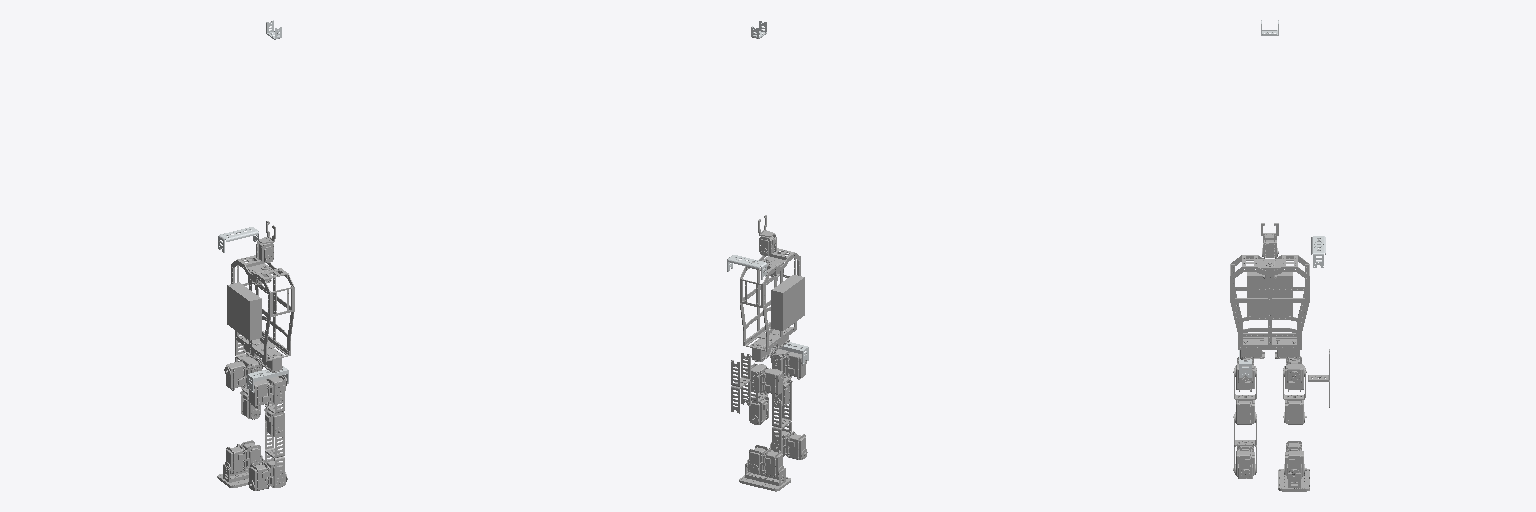
robot.urdf — biped:
<robot
  name="biped">
  <link
    name="torso">
    <inertial>
      <origin
        xyz="-0.032427 -7.3918E-11 -0.035454"
        rpy="0 0 0" />
      <mass
        value="1.5243" />
      <inertia
        ixx="0.0065088"
        ixy="1.2448E-11"
        ixz="0.00074863"
        iyy="0.0067767"
        iyz="1.2924E-11"
        izz="0.0023018" />
    </inertial>
    <visual>
      <origin
        xyz="0 0 0"
        rpy="0 0 0" />
      <geometry>
        <mesh
          filename="package://meshes/meshes_biped/torso.STL" />
      </geometry>
      <material
        name="">
        <color
          rgba="0.75294 0.75294 0.75294 1" />
      </material>
    </visual>
    <collision>
      <origin
        xyz="0 0 0"
        rpy="0 0 0" />
      <geometry>
        <mesh
          filename="package://meshes/meshes_biped/torso.STL" />
      </geometry>
    </collision>
    <contact>
      <lateral_friction value="1.0"/>
      <restitution value="0.5"/>
    </contact>
  </link>
  <link
    name="head_p">
    <inertial>
      <origin
        xyz="-5.5511E-17 5.5511E-17 -0.023536"
        rpy="0 0 0" />
      <mass
        value="0.0091975" />
      <inertia
        ixx="0"
        ixy="0"
        ixz="0"
        iyy="0"
        iyz="0"
        izz="0" />
    </inertial>
    <visual>
      <origin
        xyz="0 0 0"
        rpy="0 0 0" />
      <geometry>
        <mesh
          filename="package://meshes/meshes_biped/head_p.STL" />
      </geometry>
      <material
        name="">
        <color
          rgba="0.89804 0.91765 0.92941 1" />
      </material>
    </visual>
    <collision>
      <origin
        xyz="0 0 0"
        rpy="0 0 0" />
      <geometry>
        <mesh
          filename="package://meshes/meshes_biped/head_p.STL" />
      </geometry>
    </collision>
    <contact>
      <lateral_friction value="1.0"/>
      <restitution value="0.5"/>
    </contact>
  </link>
  <joint
    name="head_p"
    type="fixed">
    <origin
      xyz="0.0075 0 0.12157"
      rpy="6.713E-16 6.9212E-18 1.1102E-16" />
    <parent
      link="torso" />
    <child
      link="head_p" />
    <axis
      xyz="0 0 1" />
    <limit
      lower="-1.57"
      upper="1.57"
      effort="16"
      velocity="3" />
  </joint>
  <link
    name="head_t">
    <inertial>
      <origin
        xyz="0.00078184 2.0234E-05 0.016088"
        rpy="0 0 0" />
      <mass
        value="0.084099" />
      <inertia
        ixx="1.5435E-05"
        ixy="1.3296E-09"
        ixz="-2.5332E-06"
        iyy="1.5134E-05"
        iyz="5.1455E-08"
        izz="1.5241E-06" />
    </inertial>
    <visual>
      <origin
        xyz="0 0 0"
        rpy="0 0 0" />
      <geometry>
        <mesh
          filename="package://meshes/meshes_biped/head_t.STL" />
      </geometry>
      <material
        name="">
        <color
          rgba="0.75294 0.75294 0.75294 1" />
      </material>
    </visual>
    <collision>
      <origin
        xyz="0 0 0"
        rpy="0 0 0" />
      <geometry>
        <mesh
          filename="package://meshes/meshes_biped/head_t.STL" />
      </geometry>
    </collision>
    <contact>
      <lateral_friction value="1.0"/>
      <restitution value="0.5"/>
    </contact>
  </link>
  <joint
    name="j_head_t"
    type="fixed">
    <origin
      xyz="0 -0.00025 0"
      rpy="1.4381E-16 -9.993E-17 -7.2164E-16" />
    <parent
      link="head_p" />
    <child
      link="head_t" />
    <axis
      xyz="0 1 0" />
    <limit
      lower="-1.57"
      upper="1.57"
      effort="16"
      velocity="3" />
  </joint>
  <link
    name="leg_r_hip_y">
    <inertial>
      <origin
        xyz="-0.02001 -2.7756E-17 0.028495"
        rpy="0 0 0" />
      <mass
        value="0.044523" />
      <inertia
        ixx="0"
        ixy="0"
        ixz="0"
        iyy="0"
        iyz="0"
        izz="0" />
    </inertial>
    <visual>
      <origin
        xyz="0 0 0"
        rpy="0 0 0" />
      <geometry>
        <mesh
          filename="package://meshes/meshes_biped/leg_r_hip_y.STL" />
      </geometry>
      <material
        name="">
        <color
          rgba="0.89804 0.91765 0.92941 1" />
      </material>
    </visual>
    <collision>
      <origin
        xyz="0 0 0"
        rpy="0 0 0" />
      <geometry>
        <mesh
          filename="package://meshes/meshes_biped/leg_r_hip_y.STL" />
      </geometry>
    </collision>
    <contact>
      <lateral_friction value="1.0"/>
      <restitution value="0.5"/>
    </contact>
  </link>
  <joint
    name="r_hip_y"
    type="revolute">
    <origin
      xyz="0 -0.06125 -0.2124"
      rpy="-5.4531E-16 3.0739E-17 -1.6653E-16" />
    <parent
      link="torso" />
    <child
      link="leg_r_hip_y" />
    <axis
      xyz="0 0 -1" />
    <limit
      lower="-1.57"
      upper="1.57"
      effort="16"
      velocity="3" />
  </joint>
  <link
    name="leg_r_hip_r">
    <inertial>
      <origin
        xyz="-0.019939 8.1869E-05 -0.014803"
        rpy="0 0 0" />
      <mass
        value="0.32716" />
      <inertia
        ixx="7.626E-06"
        ixy="-5.5849E-07"
        ixz="-1.0679E-05"
        iyy="0.00018621"
        iyz="-1.5134E-06"
        izz="0.0001855" />
    </inertial>
    <visual>
      <origin
        xyz="0 0 0"
        rpy="0 0 0" />
      <geometry>
        <mesh
          filename="package://meshes/meshes_biped/leg_r_hip_r.STL" />
      </geometry>
      <material
        name="">
        <color
          rgba="0.75294 0.75294 0.75294 1" />
      </material>
    </visual>
    <collision>
      <origin
        xyz="0 0 0"
        rpy="0 0 0" />
      <geometry>
        <mesh
          filename="package://meshes/meshes_biped/leg_r_hip_r.STL" />
      </geometry>
    </collision>
    <contact>
      <lateral_friction value="1.0"/>
      <restitution value="0.5"/>
    </contact>
  </link>
  <joint
    name="r_hip_r"
    type="revolute">
    <origin
      xyz="0 0 0"
      rpy="-3.9136E-16 4.0824E-19 5.5511E-17" />
    <parent
      link="leg_r_hip_y" />
    <child
      link="leg_r_hip_r" />
    <axis
      xyz="1 0 0" />
    <limit
      lower="-1.57"
      upper="1.57"
      effort="16"
      velocity="3" />
  </joint>
  <link
    name="leg_r_hip_p">
    <inertial>
      <origin
        xyz="-4.7361E-05 0.00014667 -0.10143"
        rpy="0 0 0" />
      <mass
        value="0.18783" />
      <inertia
        ixx="9.8966E-05"
        ixy="-1.5606E-09"
        ixz="2.1853E-07"
        iyy="9.6525E-05"
        iyz="1.7817E-06"
        izz="2.459E-06" />
    </inertial>
    <visual>
      <origin
        xyz="0 0 0"
        rpy="0 0 0" />
      <geometry>
        <mesh
          filename="package://meshes/meshes_biped/leg_r_hip_p.STL" />
      </geometry>
      <material
        name="">
        <color
          rgba="0.75294 0.75294 0.75294 1" />
      </material>
    </visual>
    <collision>
      <origin
        xyz="0 0 0"
        rpy="0 0 0" />
      <geometry>
        <mesh
          filename="package://meshes/meshes_biped/leg_r_hip_p.STL" />
      </geometry>
    </collision>
    <contact>
      <lateral_friction value="1.0"/>
      <restitution value="0.5"/>
    </contact>
  </link>
  <joint
    name="r_hip_p"
    type="revolute">
    <origin
      xyz="0 0 0"
      rpy="1.4362E-16 7.3309E-16 -1.1102E-16" />
    <parent
      link="leg_r_hip_r" />
    <child
      link="leg_r_hip_p" />
    <axis
      xyz="0 -1 0" />
    <limit
      lower="-1.57"
      upper="1.57"
      effort="16"
      velocity="3" />
  </joint>
  <link
    name="leg_r_knee">
    <inertial>
      <origin
        xyz="6.1062E-16 6.9389E-17 -0.072"
        rpy="0 0 0" />
      <mass
        value="0.047124" />
      <inertia
        ixx="3.4724E-05"
        ixy="1.6941E-21"
        ixz="6.3842E-20"
        iyy="3.4724E-05"
        iyz="-1.1327E-08"
        izz="3.6947E-12" />
    </inertial>
    <visual>
      <origin
        xyz="0 0 0"
        rpy="0 0 0" />
      <geometry>
        <mesh
          filename="package://meshes/meshes_biped/leg_r_knee.STL" />
      </geometry>
      <material
        name="">
        <color
          rgba="0.75294 0.75294 0.75294 1" />
      </material>
    </visual>
    <collision>
      <origin
        xyz="0 0 0"
        rpy="0 0 0" />
      <geometry>
        <mesh
          filename="package://meshes/meshes_biped/leg_r_knee.STL" />
      </geometry>
    </collision>
    <contact>
      <lateral_friction value="1.0"/>
      <restitution value="0.5"/>
    </contact>
  </link>
  <joint
    name="r_knee"
    type="revolute">
    <origin
      xyz="0 0 -0.1265"
      rpy="-1.3878E-16 -6.6613E-16 5.5511E-17" />
    <parent
      link="leg_r_hip_p" />
    <child
      link="leg_r_knee" />
    <axis
      xyz="0 -1 0" />
    <limit
      lower="-1.57"
      upper="1.57"
      effort="16"
      velocity="3" />
  </joint>
  <link
    name="leg_r_ankle_p">
    <inertial>
      <origin
        xyz="-0.019968 8.5312E-05 0.014812"
        rpy="0 0 0" />
      <mass
        value="0.32697" />
      <inertia
        ixx="7.5839E-06"
        ixy="-5.3256E-07"
        ixz="1.0555E-05"
        iyy="0.00018576"
        iyz="1.5122E-06"
        izz="0.00018509" />
    </inertial>
    <visual>
      <origin
        xyz="0 0 0"
        rpy="0 0 0" />
      <geometry>
        <mesh
          filename="package://meshes/meshes_biped/leg_r_ankle_p.STL" />
      </geometry>
      <material
        name="">
        <color
          rgba="0.75294 0.75294 0.75294 1" />
      </material>
    </visual>
    <collision>
      <origin
        xyz="0 0 0"
        rpy="0 0 0" />
      <geometry>
        <mesh
          filename="package://meshes/meshes_biped/leg_r_ankle_p.STL" />
      </geometry>
    </collision>
    <contact>
      <lateral_friction value="1.0"/>
      <restitution value="0.5"/>
    </contact>
  </link>
  <joint
    name="r_ankle_p"
    type="revolute">
    <origin
      xyz="0 0 -0.144"
      rpy="7.6328E-17 1.1102E-15 -5.5511E-16" />
    <parent
      link="leg_r_knee" />
    <child
      link="leg_r_ankle_p" />
    <axis
      xyz="0 1 0" />
    <limit
      lower="-1.57"
      upper="1.57"
      effort="16"
      velocity="3" />
  </joint>
  <link
    name="leg_r_ankle_r">
    <inertial>
      <origin
        xyz="-0.02 1.1102E-16 -0.034645"
        rpy="0 0 0" />
      <mass
        value="0.10036" />
      <inertia
        ixx="3.027E-06"
        ixy="-1.0588E-22"
        ixz="-3.7392E-20"
        iyy="3.027E-06"
        iyz="3.9343E-20"
        izz="1.0081E-33" />
    </inertial>
    <visual>
      <origin
        xyz="0 0 0"
        rpy="0 0 0" />
      <geometry>
        <mesh
          filename="package://meshes/meshes_biped/leg_r_ankle_r.STL" />
      </geometry>
      <material
        name="">
        <color
          rgba="0.75294 0.75294 0.75294 1" />
      </material>
    </visual>
    <collision>
      <origin
        xyz="0 0 0"
        rpy="0 0 0" />
      <geometry>
        <mesh
          filename="package://meshes/meshes_biped/leg_r_ankle_r.STL" />
      </geometry>
    </collision>
    <contact>
      <lateral_friction value="1.0"/>
      <restitution value="0.5"/>
    </contact>
  </link>
  <joint
    name="r_ankle_r"
    type="revolute">
    <origin
      xyz="0 0 0"
      rpy="1.6422E-17 -2.1481E-15 -6.1062E-16" />
    <parent
      link="leg_r_ankle_p" />
    <child
      link="leg_r_ankle_r" />
    <axis
      xyz="-1 0 0" />
    <limit
      lower="-1.57"
      upper="1.57"
      effort="16"
      velocity="3" />
  </joint>

  <link
    name="leg_r_foot">
    <inertial>
      <origin
        xyz="0 0 0"
        rpy="0 0 0" />
      <mass
        value="0" />
      <inertia
        ixx="0"
        ixy="0"
        ixz="0"
        iyy="0"
        iyz="0"
        izz="0" />
    </inertial>
    <contact>
      <lateral_friction value="1.0"/>
      <restitution value="0.5"/>
    </contact>
  </link>
  <joint
    name="r_foot"
    type="fixed">
    <origin
      xyz="-0.02 0 -0.0425"
      rpy="0 0 0" />
    <parent
      link="leg_r_ankle_r" />
    <child
      link="leg_r_foot" />
  </joint>

  <link
    name="leg_l_hip_y">
    <inertial>
      <origin
        xyz="-0.02001 -2.7756E-17 0.028495"
        rpy="0 0 0" />
      <mass
        value="0.044523" />
      <inertia
        ixx="0"
        ixy="0"
        ixz="0"
        iyy="0"
        iyz="0"
        izz="0" />
    </inertial>
    <visual>
      <origin
        xyz="0 0 0"
        rpy="0 0 0" />
      <geometry>
        <mesh
          filename="package://meshes/meshes_biped/leg_l_hip_y.STL" />
      </geometry>
      <material
        name="">
        <color
          rgba="0.89804 0.91765 0.92941 1" />
      </material>
    </visual>
    <collision>
      <origin
        xyz="0 0 0"
        rpy="0 0 0" />
      <geometry>
        <mesh
          filename="package://meshes/meshes_biped/leg_l_hip_y.STL" />
      </geometry>
    </collision>
    <contact>
      <lateral_friction value="1.0"/>
      <restitution value="0.5"/>
    </contact>
  </link>
  <joint
    name="l_hip_y"
    type="revolute">
    <origin
      xyz="1E-05 0.06125 -0.2124"
      rpy="2.9156E-16 -1.8495E-16 -6.6058E-15" />
    <parent
      link="torso" />
    <child
      link="leg_l_hip_y" />
    <axis
      xyz="0 0 -1" />
    <limit
      lower="-1.57"
      upper="1.57"
      effort="16"
      velocity="3" />
  </joint>
  <link
    name="leg_l_hip_r">
    <inertial>
      <origin
        xyz="-0.019942 -8.5263E-05 -0.014803"
        rpy="0 0 0" />
      <mass
        value="0.32716" />
      <inertia
        ixx="7.6258E-06"
        ixy="5.3184E-07"
        ixz="-1.068E-05"
        iyy="0.00018616"
        iyz="1.5119E-06"
        izz="0.00018545" />
    </inertial>
    <visual>
      <origin
        xyz="0 0 0"
        rpy="0 0 0" />
      <geometry>
        <mesh
          filename="package://meshes/meshes_biped/leg_l_hip_r.STL" />
      </geometry>
      <material
        name="">
        <color
          rgba="0.75294 0.75294 0.75294 1" />
      </material>
    </visual>
    <collision>
      <origin
        xyz="0 0 0"
        rpy="0 0 0" />
      <geometry>
        <mesh
          filename="package://meshes/meshes_biped/leg_l_hip_r.STL" />
      </geometry>
    </collision>
    <contact>
      <lateral_friction value="1.0"/>
      <restitution value="0.5"/>
    </contact>
  </link>
  <joint
    name="l_hip_r"
    type="revolute">
    <origin
      xyz="0 0 0"
      rpy="-1.6241E-15 -9.9242E-15 -5.5511E-17" />
    <parent
      link="leg_l_hip_y" />
    <child
      link="leg_l_hip_r" />
    <axis
      xyz="1 0 0" />
    <limit
      lower="-1.57"
      upper="1.57"
      effort="16"
      velocity="3" />
  </joint>
  <link
    name="leg_l_hip_p">
    <inertial>
      <origin
        xyz="-4.1448E-05 -0.00014445 -0.10143"
        rpy="0 0 0" />
      <mass
        value="0.18783" />
      <inertia
        ixx="9.8966E-05"
        ixy="8.6863E-10"
        ixz="2.2891E-07"
        iyy="9.6525E-05"
        iyz="-1.8053E-06"
        izz="2.4592E-06" />
    </inertial>
    <visual>
      <origin
        xyz="0 0 0"
        rpy="0 0 0" />
      <geometry>
        <mesh
          filename="package://meshes/meshes_biped/leg_l_hip_p.STL" />
      </geometry>
      <material
        name="">
        <color
          rgba="0.75294 0.75294 0.75294 1" />
      </material>
    </visual>
    <collision>
      <origin
        xyz="0 0 0"
        rpy="0 0 0" />
      <geometry>
        <mesh
          filename="package://meshes/meshes_biped/leg_l_hip_p.STL" />
      </geometry>
    </collision>
    <contact>
      <lateral_friction value="1.0"/>
      <restitution value="0.5"/>
    </contact>
  </link>
  <joint
    name="l_hip_p"
    type="revolute">
    <origin
      xyz="0 0 0"
      rpy="1.674E-15 7.4031E-14 1.1102E-16" />
    <parent
      link="leg_l_hip_r" />
    <child
      link="leg_l_hip_p" />
    <axis
      xyz="0 -1 0" />
    <limit
      lower="-1.57"
      upper="1.57"
      effort="16"
      velocity="3" />
  </joint>
  <link
    name="leg_l_knee">
    <inertial>
      <origin
        xyz="6.1062E-16 -2.7756E-17 -0.072"
        rpy="0 0 0" />
      <mass
        value="0.047124" />
      <inertia
        ixx="3.4724E-05"
        ixy="8.4703E-22"
        ixz="7.2051E-20"
        iyy="3.4724E-05"
        iyz="-1.1327E-08"
        izz="3.6947E-12" />
    </inertial>
    <visual>
      <origin
        xyz="0 0 0"
        rpy="0 0 0" />
      <geometry>
        <mesh
          filename="package://meshes/meshes_biped/leg_l_knee.STL" />
      </geometry>
      <material
        name="">
        <color
          rgba="0.75294 0.75294 0.75294 1" />
      </material>
    </visual>
    <collision>
      <origin
        xyz="0 0 0"
        rpy="0 0 0" />
      <geometry>
        <mesh
          filename="package://meshes/meshes_biped/leg_l_knee.STL" />
      </geometry>
    </collision>
    <contact>
      <lateral_friction value="1.0"/>
      <restitution value="0.5"/>
    </contact>
  </link>
  <joint
    name="l_knee"
    type="revolute">
    <origin
      xyz="0 0 -0.1265"
      rpy="1.9993E-16 -6.4219E-14 0" />
    <parent
      link="leg_l_hip_p" />
    <child
      link="leg_l_knee" />
    <axis
      xyz="0 -1 0" />
    <limit
      lower="-1.57"
      upper="1.57"
      effort="16"
      velocity="3" />
  </joint>
  <link
    name="leg_l_ankle_p">
    <inertial>
      <origin
        xyz="-0.019964 -8.1917E-05 0.014812"
        rpy="0 0 0" />
      <mass
        value="0.32697" />
      <inertia
        ixx="7.5841E-06"
        ixy="5.5918E-07"
        ixz="1.0554E-05"
        iyy="0.0001858"
        iyz="-1.5137E-06"
        izz="0.00018513" />
    </inertial>
    <visual>
      <origin
        xyz="0 0 0"
        rpy="0 0 0" />
      <geometry>
        <mesh
          filename="package://meshes/meshes_biped/leg_l_ankle_p.STL" />
      </geometry>
      <material
        name="">
        <color
          rgba="0.75294 0.75294 0.75294 1" />
      </material>
    </visual>
    <collision>
      <origin
        xyz="0 0 0"
        rpy="0 0 0" />
      <geometry>
        <mesh
          filename="package://meshes/meshes_biped/leg_l_ankle_p.STL" />
      </geometry>
    </collision>
    <contact>
      <lateral_friction value="1.0"/>
      <restitution value="0.5"/>
    </contact>
  </link>
  <joint
    name="l_ankle_p"
    type="revolute">
    <origin
      xyz="0 0 -0.144"
      rpy="3.5172E-16 8.6649E-16 3.8858E-16" />
    <parent
      link="leg_l_knee" />
    <child
      link="leg_l_ankle_p" />
    <axis
      xyz="0 1 0" />
    <limit
      lower="-1.57"
      upper="1.57"
      effort="16"
      velocity="3" />
  </joint>
  <link
    name="leg_l_ankle_r">
    <inertial>
      <origin
        xyz="-0.02 -5.5511E-17 -0.034645"
        rpy="0 0 0" />
      <mass
        value="0.10036" />
      <inertia
        ixx="3.027E-06"
        ixy="0"
        ixz="3.2225E-20"
        iyy="3.027E-06"
        iyz="8.1613E-21"
        izz="6.4314E-34" />
    </inertial>
    <visual>
      <origin
        xyz="0 0 0"
        rpy="0 0 0" />
      <geometry>
        <mesh
          filename="package://meshes/meshes_biped/leg_l_ankle_r.STL" />
      </geometry>
      <material
        name="">
        <color
          rgba="0.75294 0.75294 0.75294 1" />
      </material>
    </visual>
    <collision>
      <origin
        xyz="0 0 0"
        rpy="0 0 0" />
      <geometry>
        <mesh
          filename="package://meshes/meshes_biped/leg_l_ankle_r.STL" />
      </geometry>
    </collision>
    <contact>
      <lateral_friction value="1.0"/>
      <restitution value="0.5"/>
    </contact>
  </link>
  <joint
    name="l_ankle_r"
    type="revolute">
    <origin
      xyz="0 0 0"
      rpy="6.5861E-17 -2.1529E-15 -3.0087E-14" />
    <parent
      link="leg_l_ankle_p" />
    <child
      link="leg_l_ankle_r" />
    <axis
      xyz="-1 0 0" />
    <limit
      lower="-1.57"
      upper="1.57"
      effort="16"
      velocity="3" />
  </joint>
<link
    name="leg_l_foot">
    <inertial>
      <origin
        xyz="0 0 0"
        rpy="0 0 0" />
      <mass
        value="0" />
      <inertia
        ixx="0"
        ixy="0"
        ixz="0"
        iyy="0"
        iyz="0"
        izz="0" />
    </inertial>
    <contact>
      <lateral_friction value="1.0"/>
      <restitution value="0.5"/>
    </contact>
  </link>
  <joint
    name="l_foot"
    type="fixed">
    <origin
      xyz="-0.02 0 -0.0425"
      rpy="0 0 0" />
    <parent
      link="leg_l_ankle_r" />
    <child
      link="leg_l_foot" />
  </joint>
</robot>

--- What the picture shows (computed from the rendered views, not written in the file) ---
Views: 3 orthographic renders of the robot side by side, from view 1: azimuth 30°, elevation 25°; view 2: azimuth 150°, elevation 25°; view 3: azimuth 270°, elevation 25°.
Robot: biped — 17 links, 16 joints (12 revolute, 4 fixed); root link torso; default pose: every joint at zero.
Visible links, largest first — view 1: torso, leg_l_ankle_p, leg_r_ankle_p, leg_r_hip_r, leg_l_hip_r, leg_r_hip_p, leg_r_knee; view 2: torso, leg_l_ankle_p, leg_l_knee, leg_l_hip_r, leg_l_ankle_r, leg_r_hip_r, leg_r_ankle_p, leg_l_hip_p, leg_r_knee; view 3: torso, leg_l_hip_p, leg_r_hip_p, leg_l_ankle_p, leg_r_ankle_p, leg_l_ankle_r, leg_l_hip_r.
Link boxes in pixels (x1,y1,x2,y2): torso: (227, 255, 294, 372); leg_l_ankle_p: (225, 440, 263, 473); leg_r_ankle_p: (248, 458, 287, 490); leg_r_hip_r: (249, 375, 287, 408); leg_l_hip_r: (224, 357, 262, 390); leg_r_hip_p: (264, 385, 284, 436); leg_r_knee: (265, 430, 284, 484); torso: (740, 248, 804, 361); leg_l_ankle_p: (746, 445, 783, 476); leg_l_knee: (731, 353, 750, 413); leg_l_hip_r: (746, 363, 783, 396); leg_l_ankle_r: (739, 464, 790, 491); leg_r_hip_r: (770, 348, 806, 379); leg_r_ankle_p: (769, 429, 807, 459); leg_l_hip_p: (749, 375, 768, 424); leg_r_knee: (772, 401, 791, 452); torso: (1230, 255, 1309, 360); leg_l_hip_p: (1283, 368, 1306, 424); leg_r_hip_p: (1233, 368, 1256, 424); leg_l_ankle_p: (1283, 441, 1306, 478); leg_r_ankle_p: (1233, 443, 1255, 478); leg_l_ankle_r: (1278, 469, 1309, 491); leg_l_hip_r: (1283, 356, 1306, 391).
Bounding box of the posed robot: 0.1325 × 0.2505 × 1.3 m (x, y, z).
Meshes: 15 distinct files referenced, 14 mesh visuals loaded (14 binary STL); not drawn: 1 (reference not matched to a file when rendering).